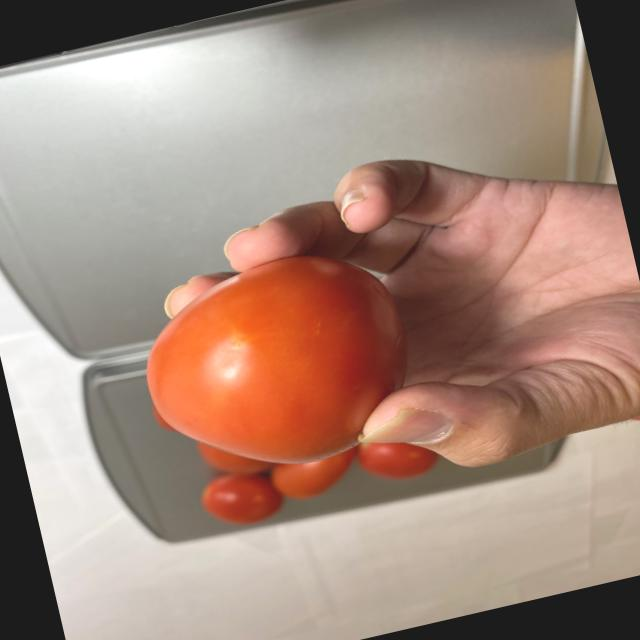tomato: (126, 232, 445, 540)
